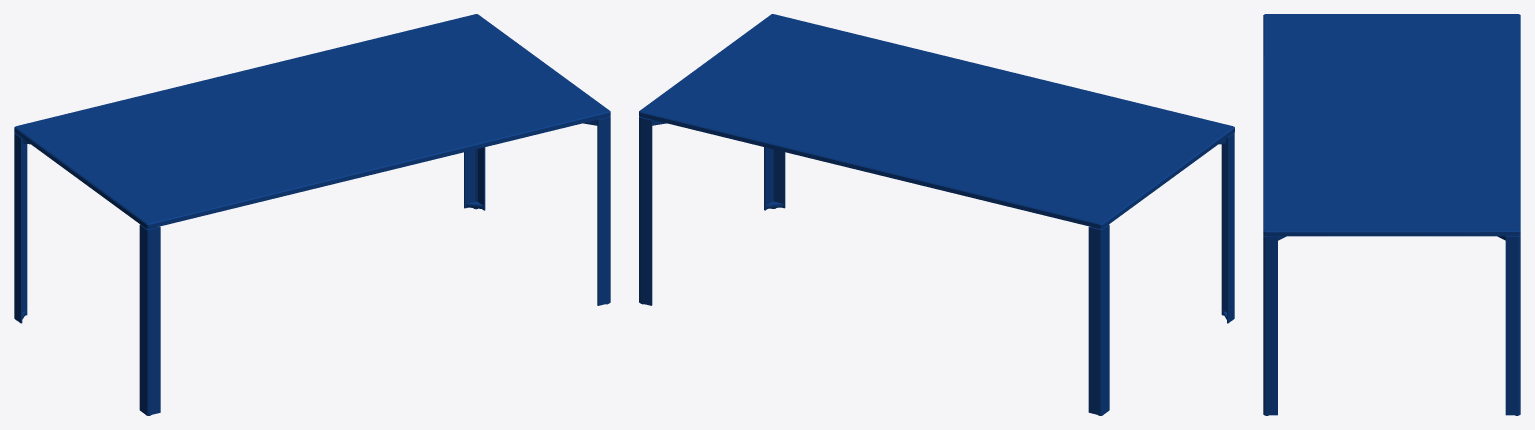
Rendered from Table.fbx.
The picture shows the model from 3 angles, left to right: view 1: azimuth 30°, elevation 25°; view 2: azimuth 150°, elevation 25°; view 3: azimuth 270°, elevation 25°; orthographic projection. The views are drawn at different scales.
Visible parts, largest first — view 1: ploca, noge; view 2: ploca, noge; view 3: ploca, noge.
Boxes of the visible parts, bbox=[...] form: ploca: bbox=[14, 14, 610, 228]; noge: bbox=[14, 116, 610, 415]; ploca: bbox=[639, 14, 1234, 228]; noge: bbox=[639, 116, 1234, 415]; ploca: bbox=[1263, 14, 1520, 236]; noge: bbox=[1263, 235, 1520, 415].
Bounding box in the file's own units: 77.98 × 30.93 × 39.
